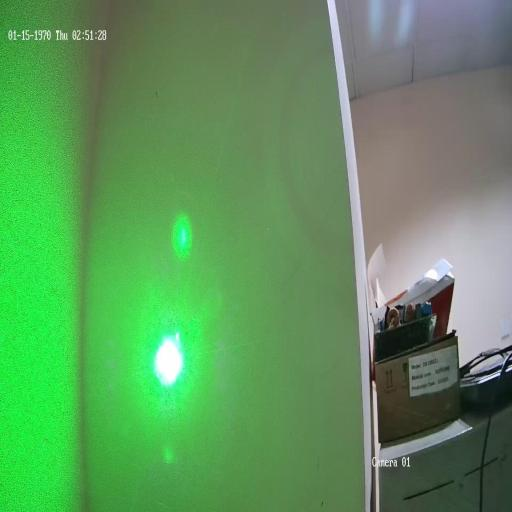laser: (144, 311, 193, 403)
